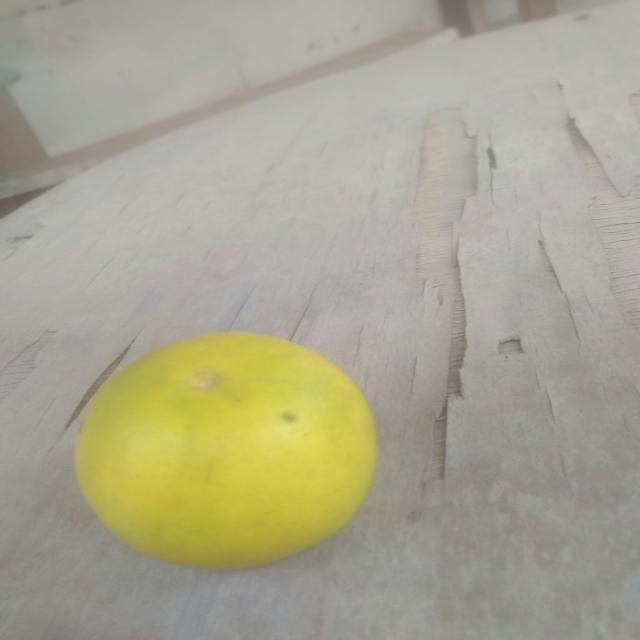agrume: (71, 329, 377, 568)
